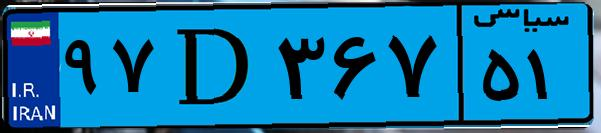1: (525, 38, 570, 115)
3: (270, 28, 330, 110)
5: (475, 38, 525, 113)
6: (330, 28, 385, 110)
7: (385, 28, 445, 110), (110, 28, 158, 98)
9: (57, 26, 110, 100)
D: (158, 12, 270, 120)
